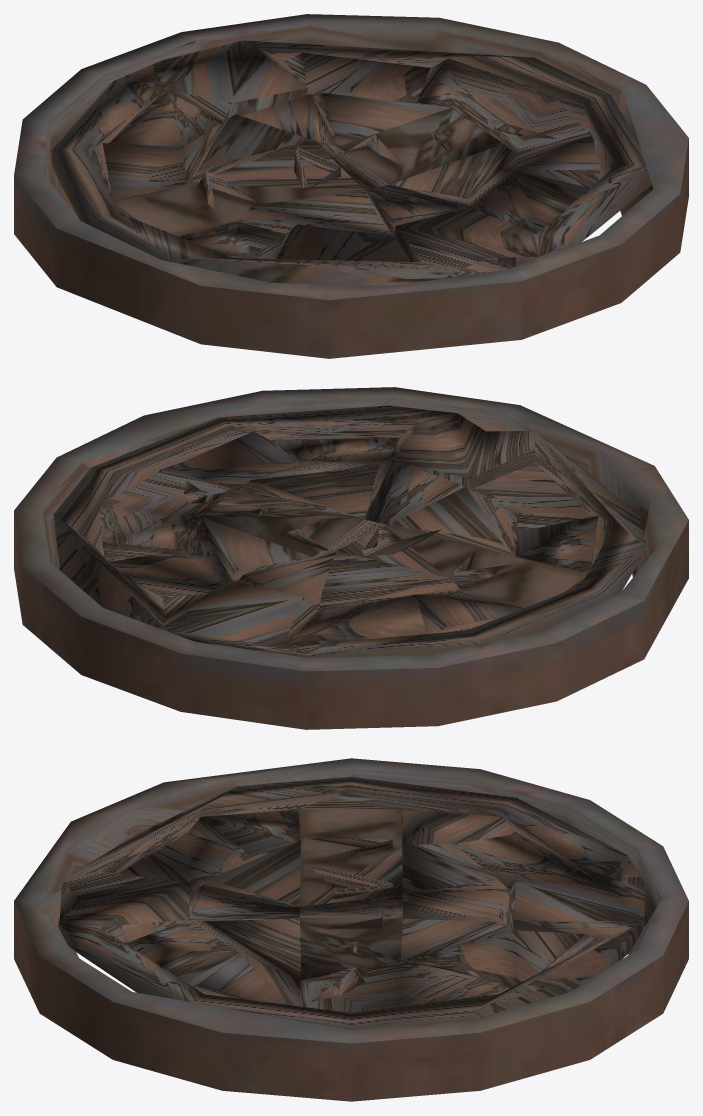
The model's file is manhole.glb.
3 views of the same model, one above another, from view 1: azimuth 30°, elevation 25°; view 2: azimuth 150°, elevation 25°; view 3: azimuth 270°, elevation 25° (orthographic).
Visible parts, largest first — view 1: manhole; view 2: manhole; view 3: manhole.
Boxes of the visible parts, box(x1,y1,x2,y2) form: manhole: box(14, 14, 688, 358); manhole: box(14, 387, 688, 729); manhole: box(14, 758, 688, 1101).
Bounding box in the file's own units: 0.6908 × 0.0676 × 0.6908.
1 material, 1 textured.
